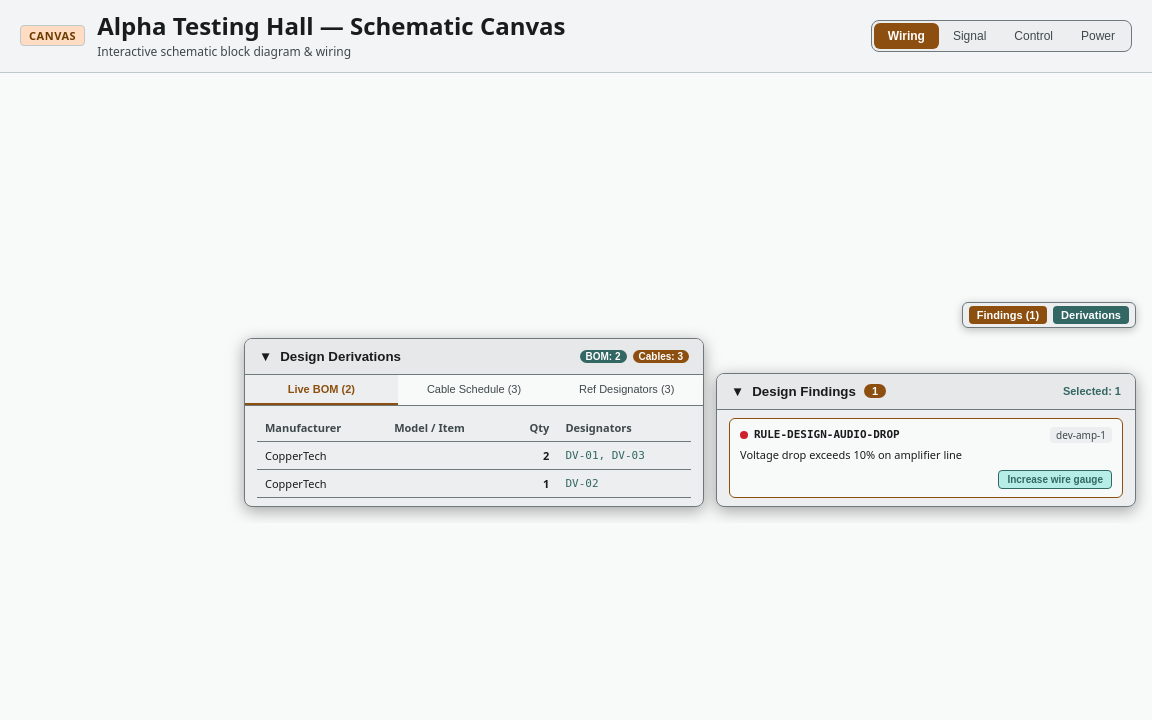
Test: Batch 162 (EN.W1) — Canvas Lens as Lens-Kind Shell › proves the validation tray displays relevant findings from global registry filtering for Design facet and active/selected entities
Expected: the element with test id "canvas-validation-tray" is shown, [716,373,1136,507]
Expected: the text "RULE-DESIGN-AUDIO-DROP" is shown, [754,428,900,441]
Applying fix resolves finding
Click the button with test id "finding-fix-f-design-amp" at coordinates (1055, 479), box [998,470,1112,489]
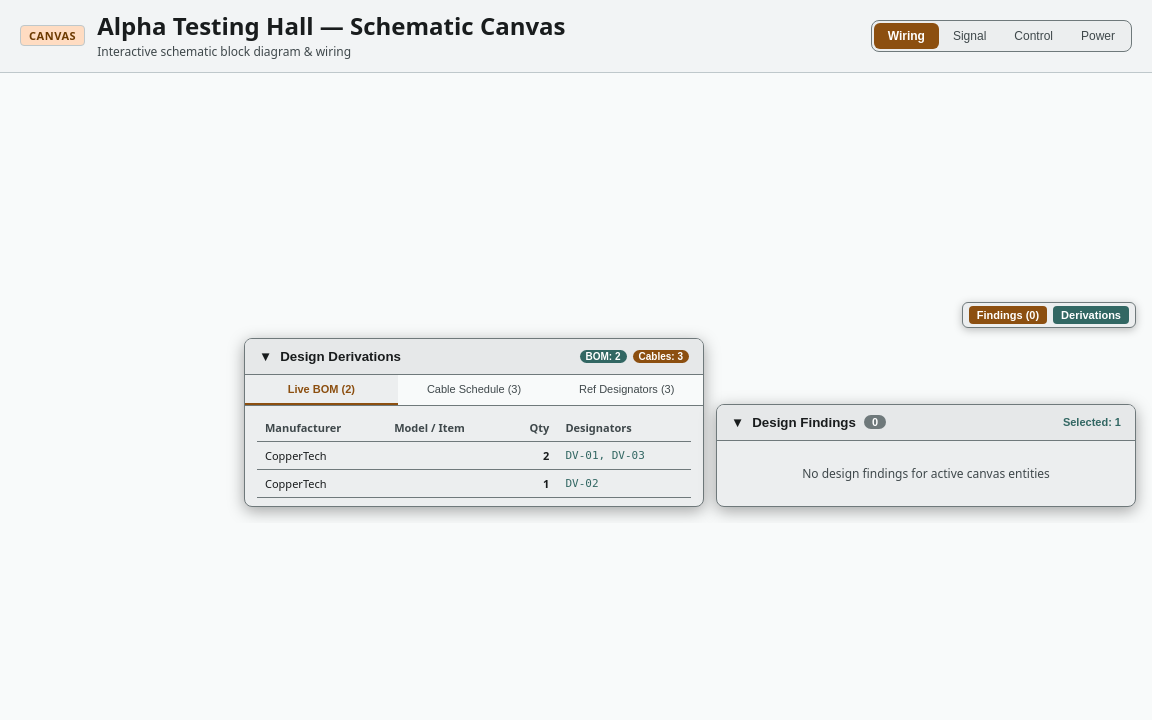
Expected: the button "RULE-DESIGN-AUDIO-DROP" is gone
